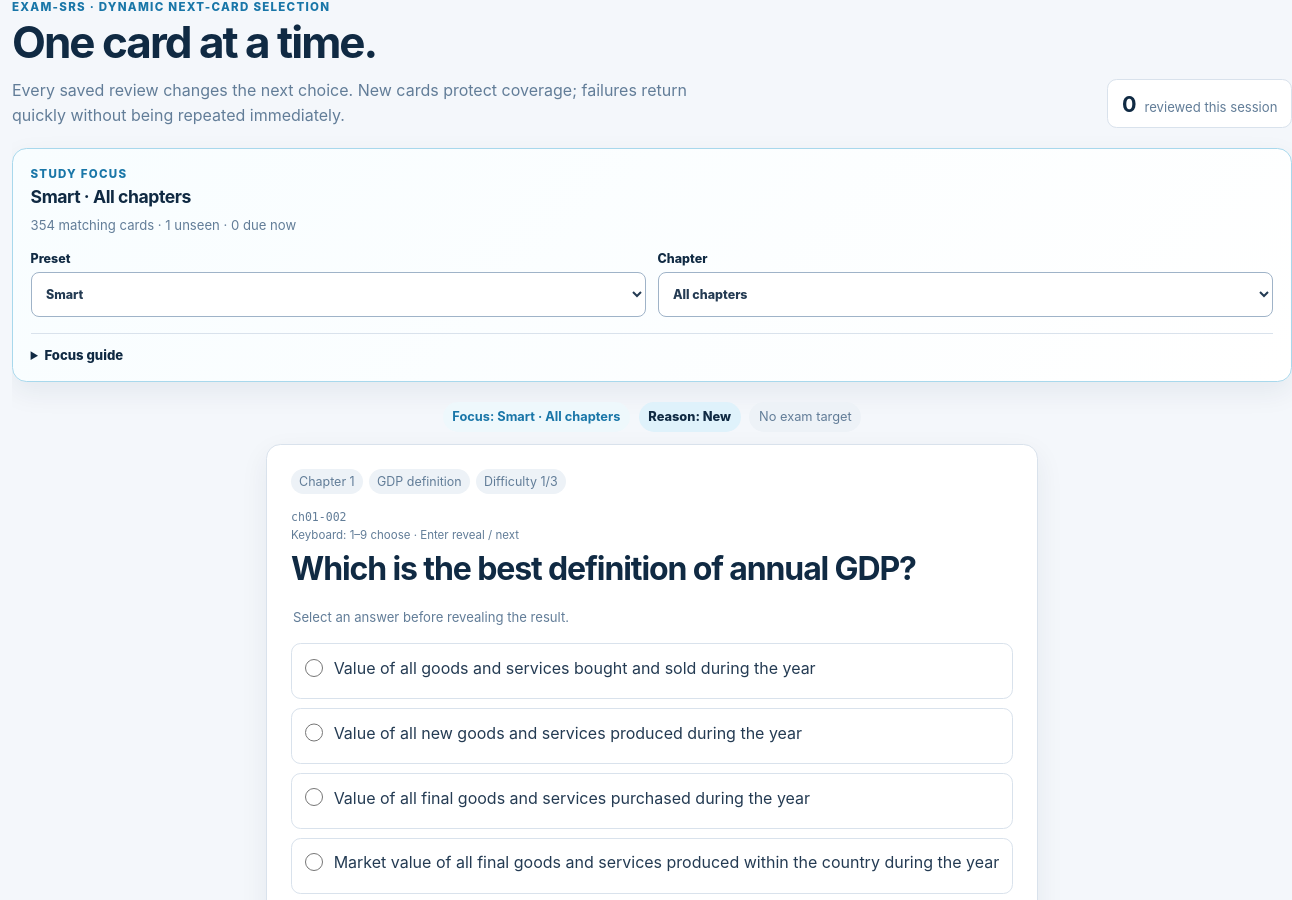
Test: StudyPage session › keeps the reviewed MCQ visible until the learner advances
This screenshot has width=1292, height=900.
Click the 4th radio button named "Market value of all final goods and services produced within the country during the year" at (314, 862), box [305,853,323,871]
(page scrolled)
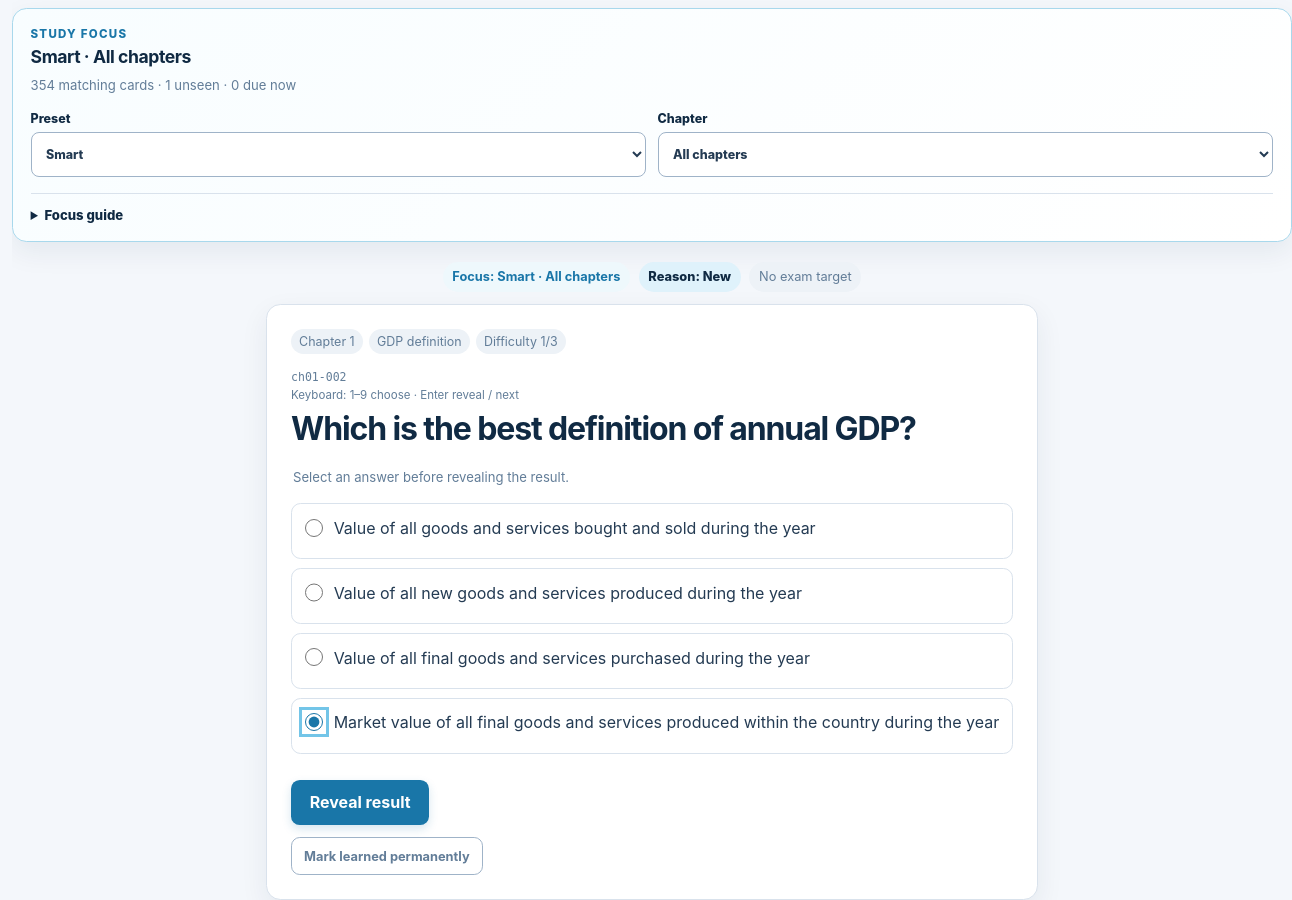
Click the button "Reveal result" at (360, 803), box [291,780,429,826]
(page scrolled)
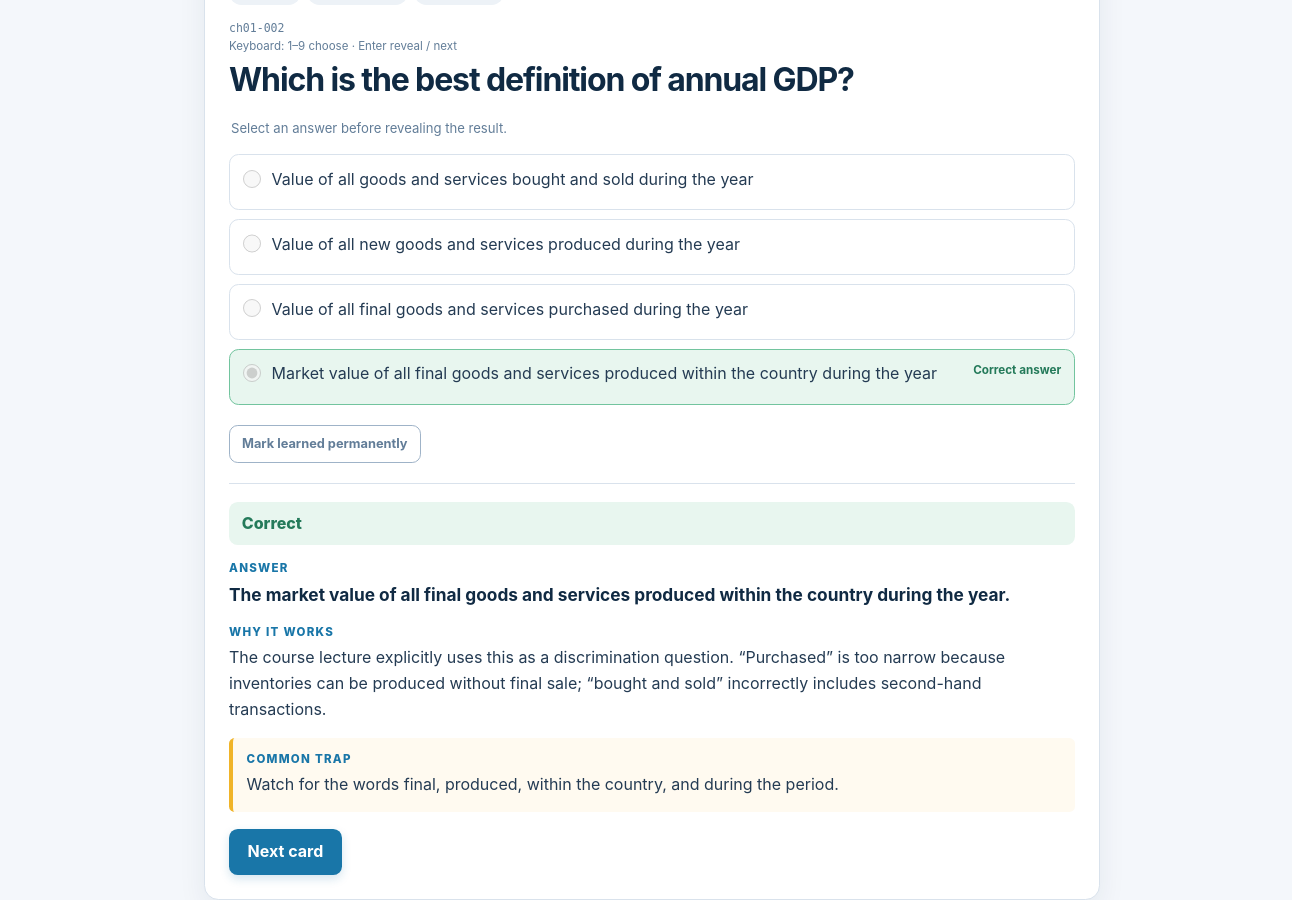
Result: the button "Next card" is shown
Click the button "Next card" at (285, 852), box [229,829,342,875]
(page scrolled)
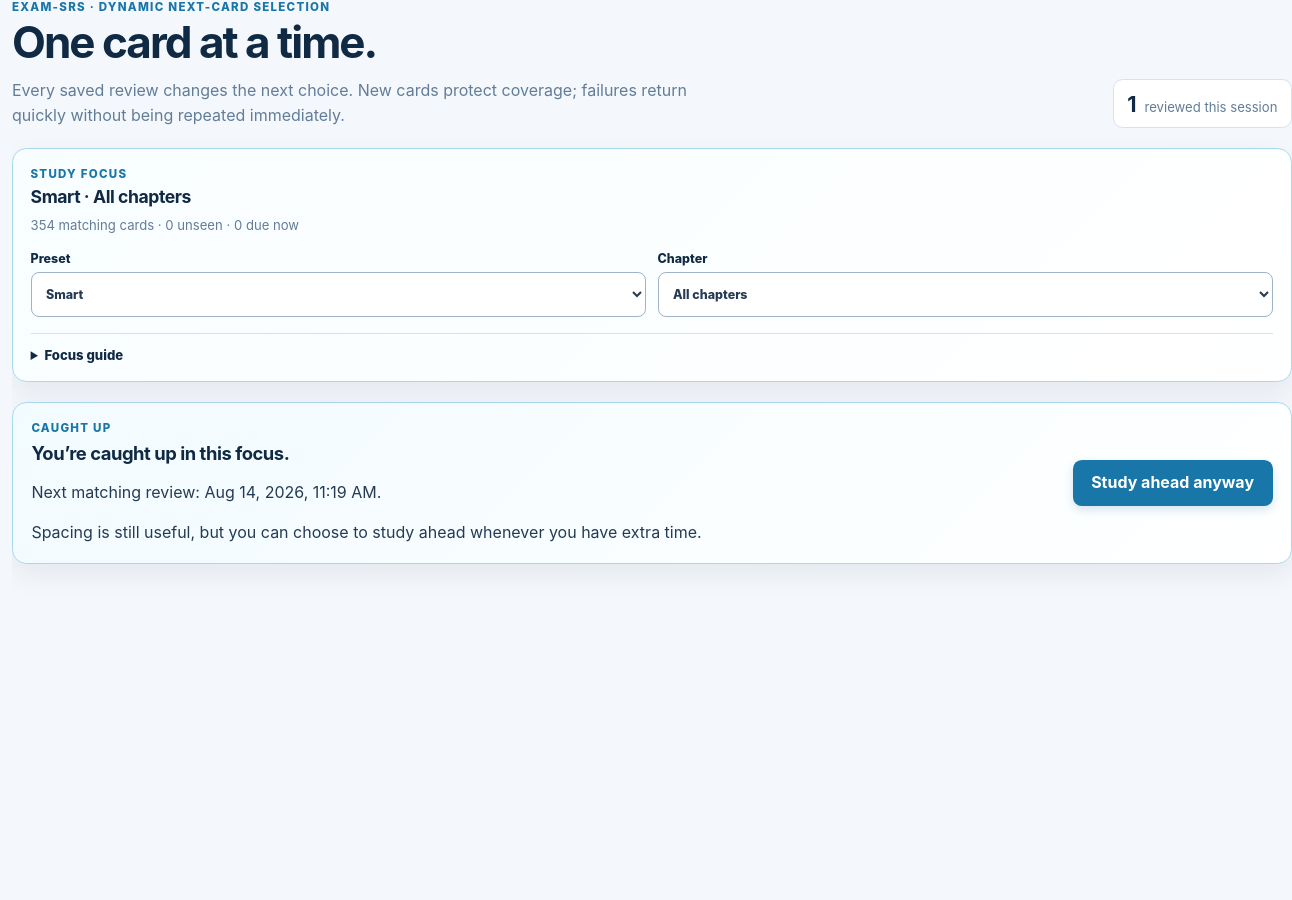
Result: the text "1" is shown at [1127,91,1136,117]
Result: the heading "You’re caught up in this focus." is shown at [31,442,289,464]
